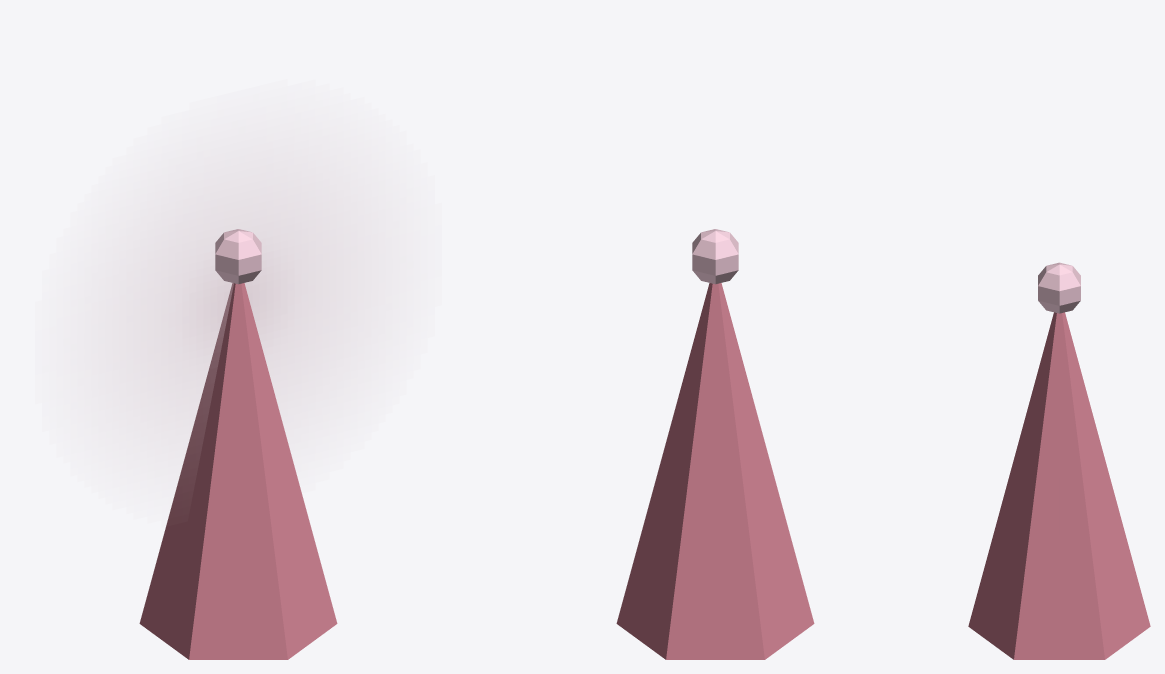
The model's file is swamp_stamenSpike.glb.
3 renders of one model, left to right at view 1: azimuth 30°, elevation 25°; view 2: azimuth 150°, elevation 25°; view 3: azimuth 270°, elevation 25°, orthographic. The views are drawn at different scales.
Visible parts, largest first — view 1: n4, n1, n3; view 2: n1, n3; view 3: n1, n3.
Part boxes in pixels (left/top/right/bottom): n4: left=105, top=155, right=371, bottom=452; n1: left=139, top=283, right=337, bottom=659; n3: left=215, top=229, right=261, bottom=284; n1: left=616, top=283, right=814, bottom=659; n3: left=692, top=229, right=738, bottom=284; n1: left=968, top=312, right=1150, bottom=659; n3: left=1038, top=262, right=1080, bottom=313.
Size of the model in its own units: 2.2 by 2.6 by 0.84.
3 materials, 1 textured.
